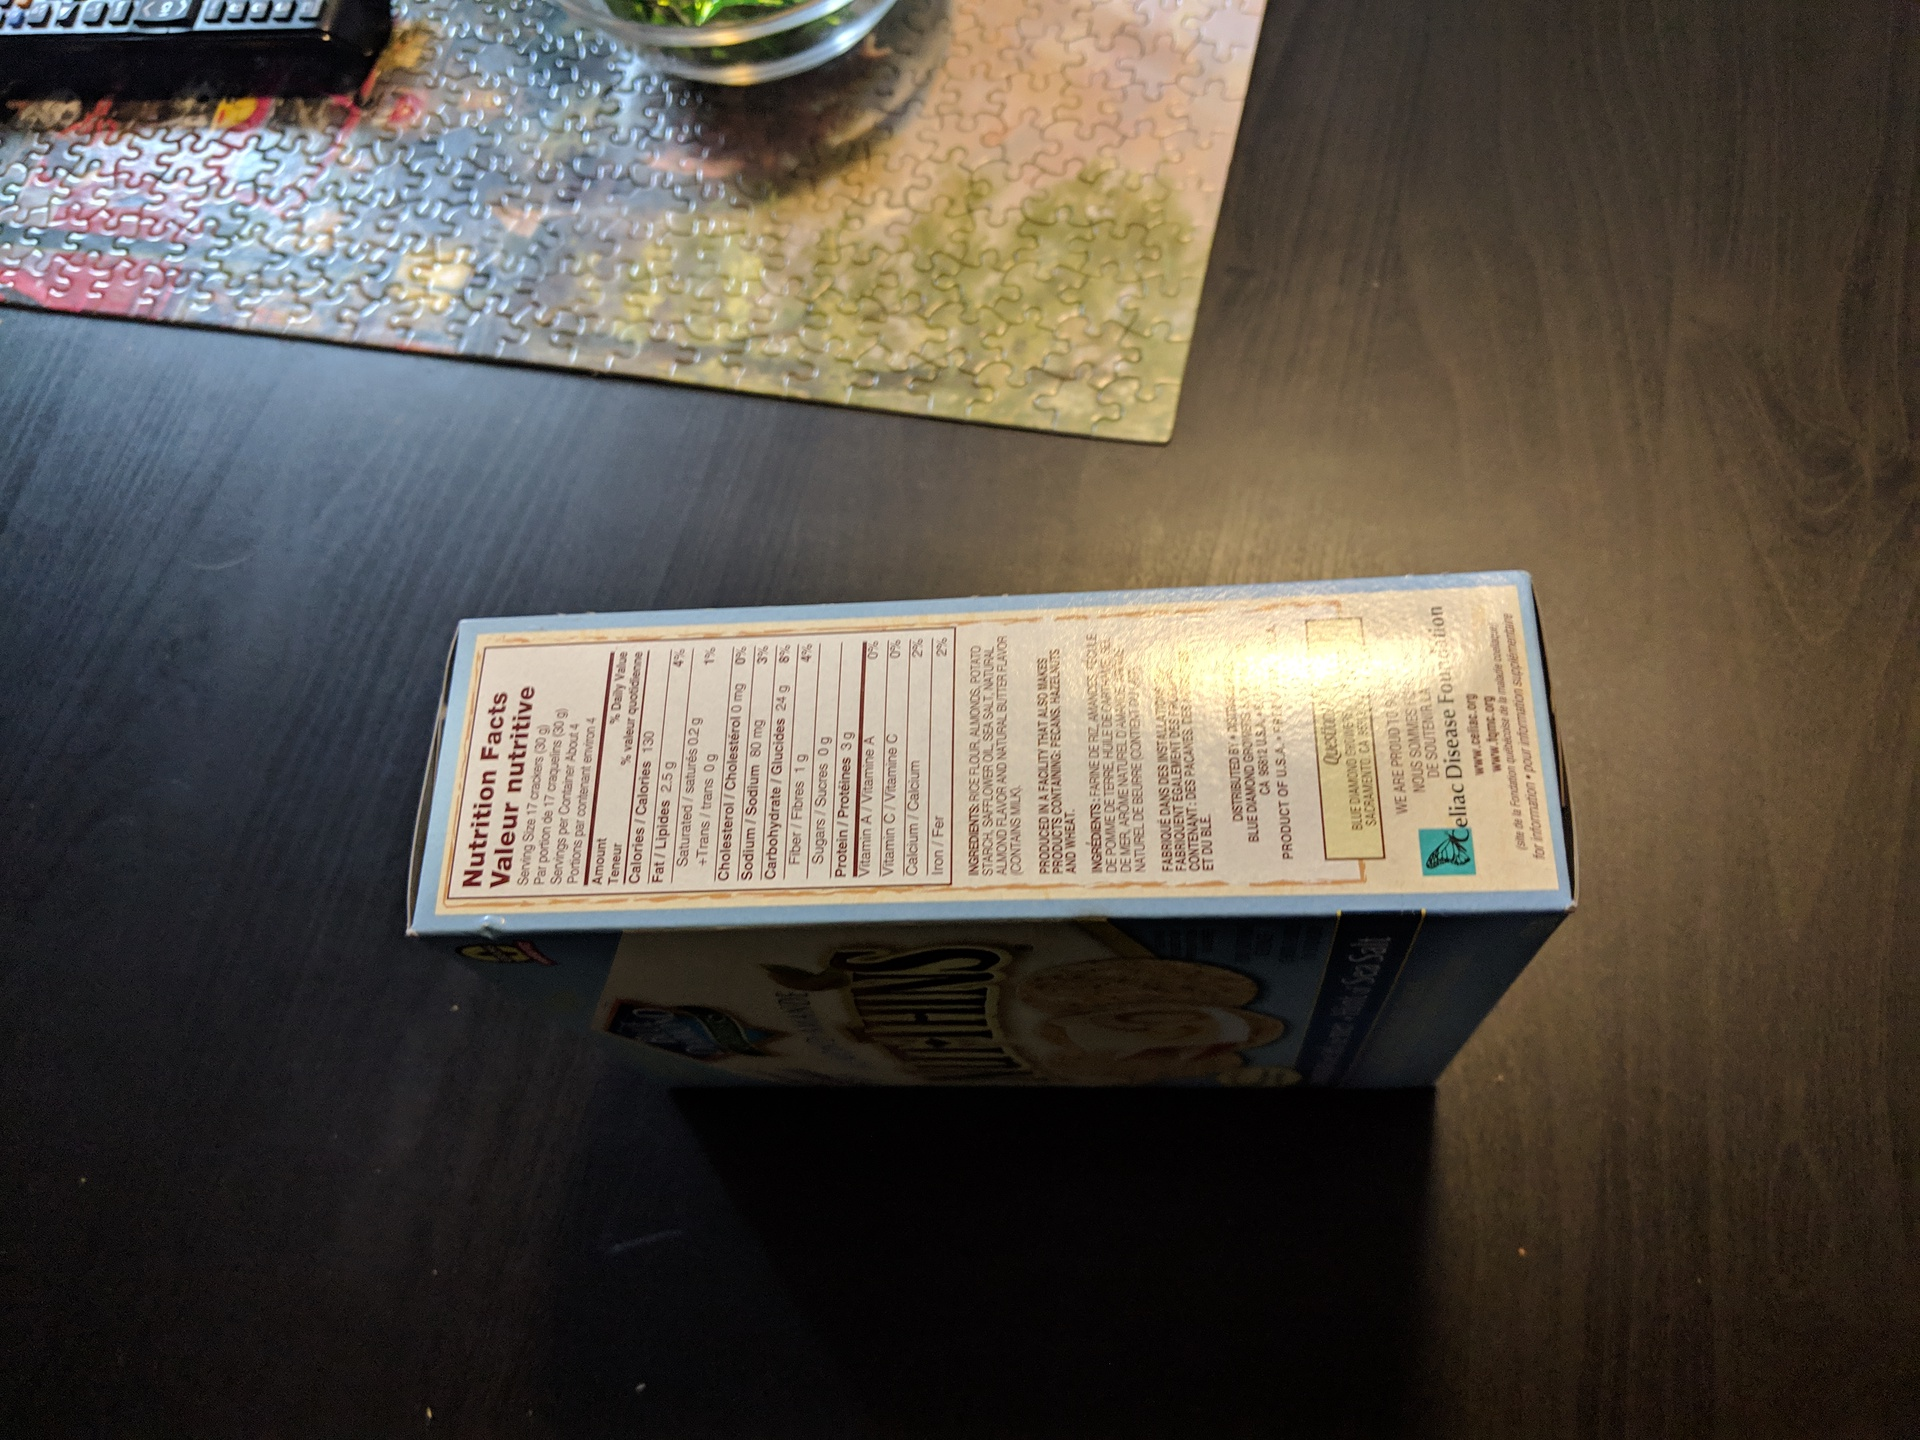blue_diamond_nut_thins_almond_seasalt: (443, 596, 1559, 1085)
